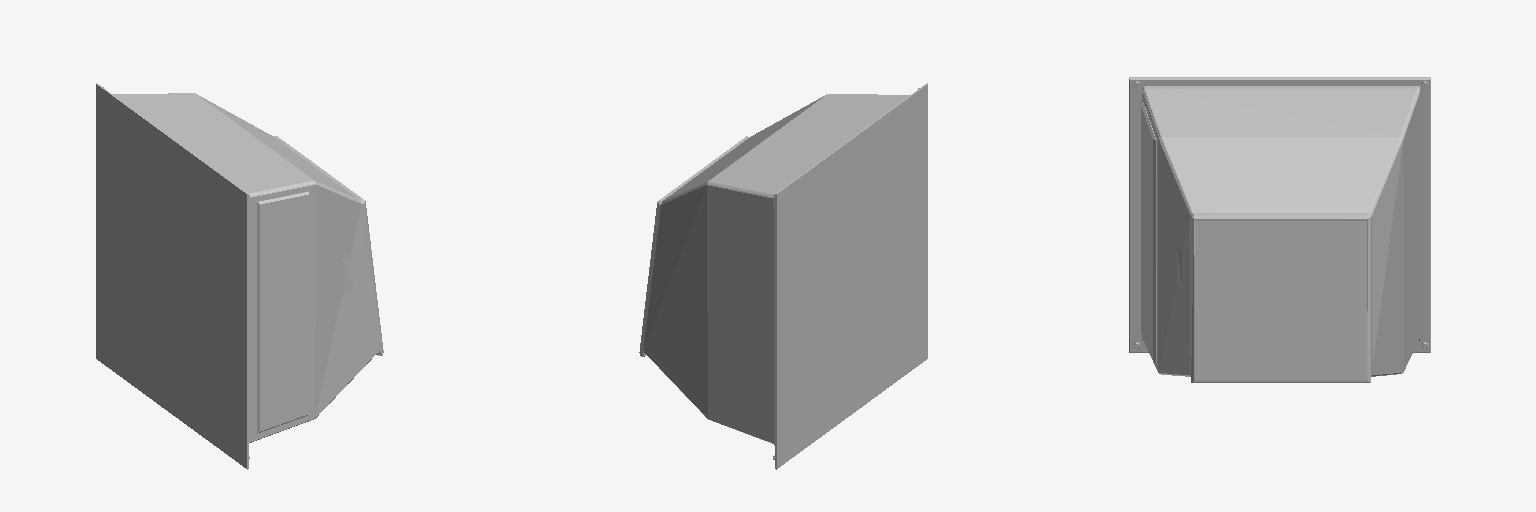
File: Vent_box_down_01.obj
3 renders of one model, left to right at view 1: azimuth 30°, elevation 25°; view 2: azimuth 150°, elevation 25°; view 3: azimuth 270°, elevation 25°, orthographic.
Visible parts, largest first — view 1: Vent_box_down_01; view 2: Vent_box_down_01; view 3: Vent_box_down_01.
Part boxes in pixels (x1,y1,x2,y2): Vent_box_down_01: (96, 83, 383, 469); Vent_box_down_01: (639, 83, 927, 469); Vent_box_down_01: (1129, 77, 1430, 382).
Size of the model in its own units: 82.4 by 128 by 128.